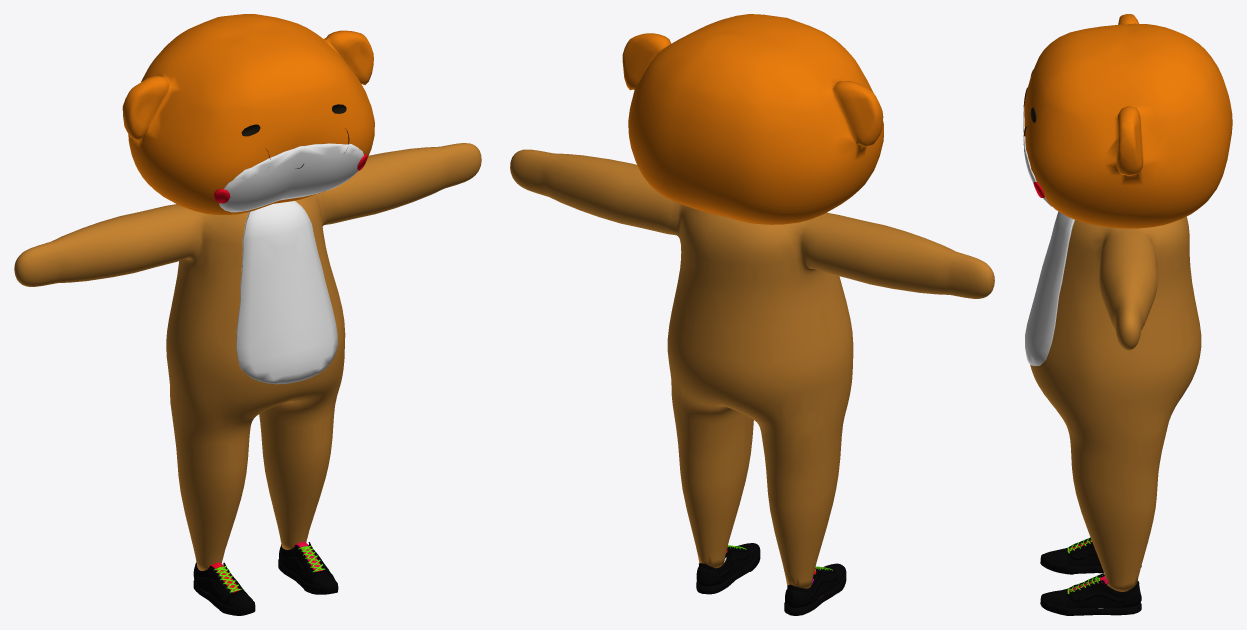
The model's file is bear_joined_decimated.fbx.
3 renders of one model, left to right at view 1: azimuth 30°, elevation 25°; view 2: azimuth 150°, elevation 25°; view 3: azimuth 270°, elevation 25°, orthographic. The views are drawn at different scales.
Visible parts, largest first — view 1: Belly; view 2: Belly; view 3: Belly.
Part boxes in pixels (x1,y1,x2,y2): Belly: (14,14,481,615); Belly: (510,14,994,615); Belly: (1023,14,1232,615).
Bounding box in the file's own units: 966 × 1088 × 375.
